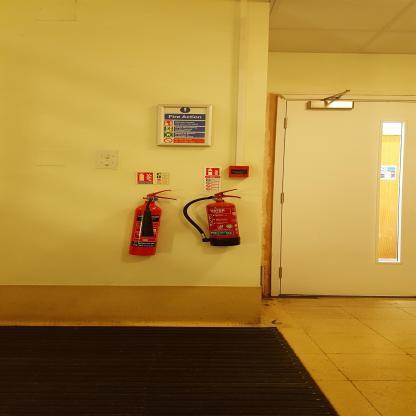Fire Extinguisher: (123, 170, 179, 271), (180, 179, 248, 257)
